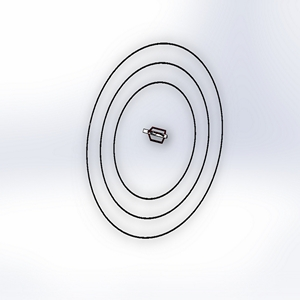circle: (82, 38, 227, 247)
submarine: (136, 120, 173, 153)
